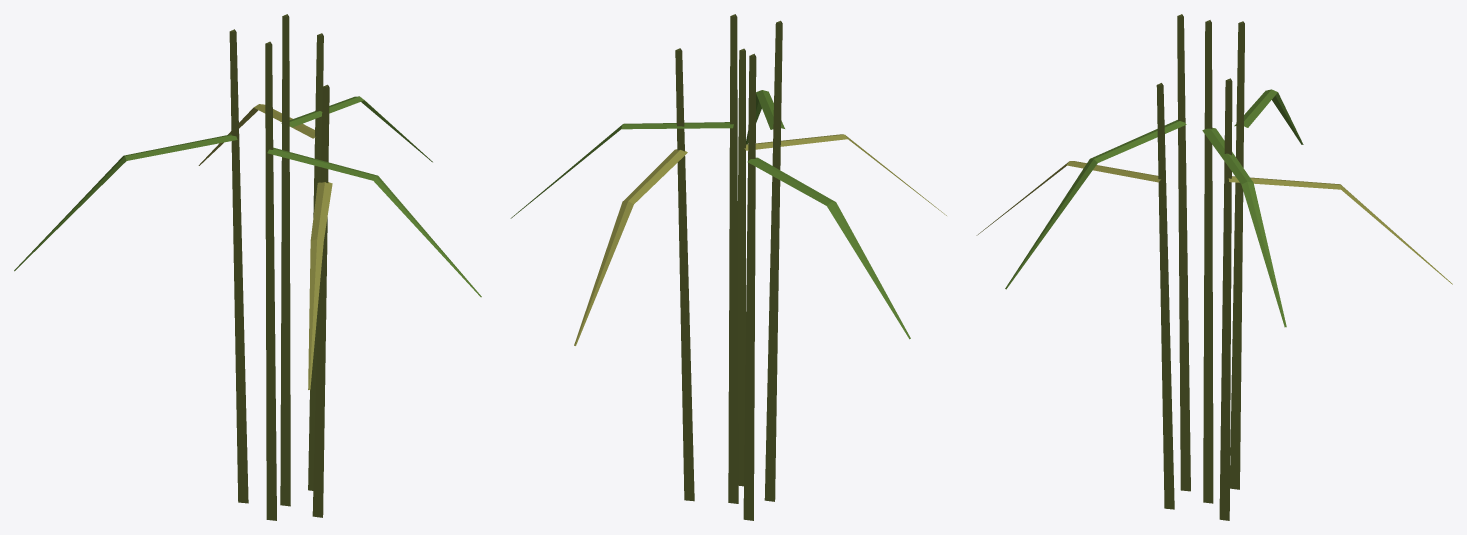
File: cana.glb
3 views of the same model, side by side, from view 1: azimuth 30°, elevation 25°; view 2: azimuth 150°, elevation 25°; view 3: azimuth 270°, elevation 25° (orthographic).
Visible parts, largest first — view 1: cana; view 2: cana; view 3: cana.
Boxes of the visible parts, bbox=[...] form: cana: bbox=[14, 14, 481, 520]; cana: bbox=[510, 14, 946, 520]; cana: bbox=[976, 14, 1452, 520].
Size of the model in its own units: 2.29 by 2.6 by 2.34.
